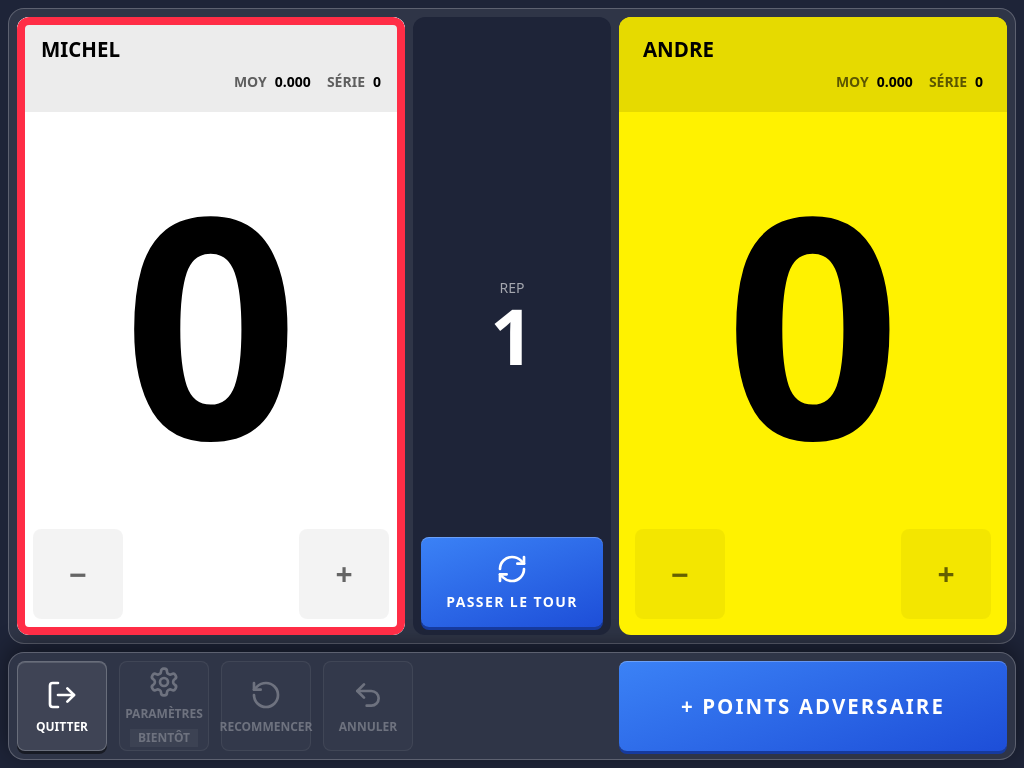
Test: GameView — saisie en popup et alternance › shows no numeric pad until the entry popup is opened
Press the mouse on the button with test id "add-points-button" at (813, 706), box [619,661,1007,751]
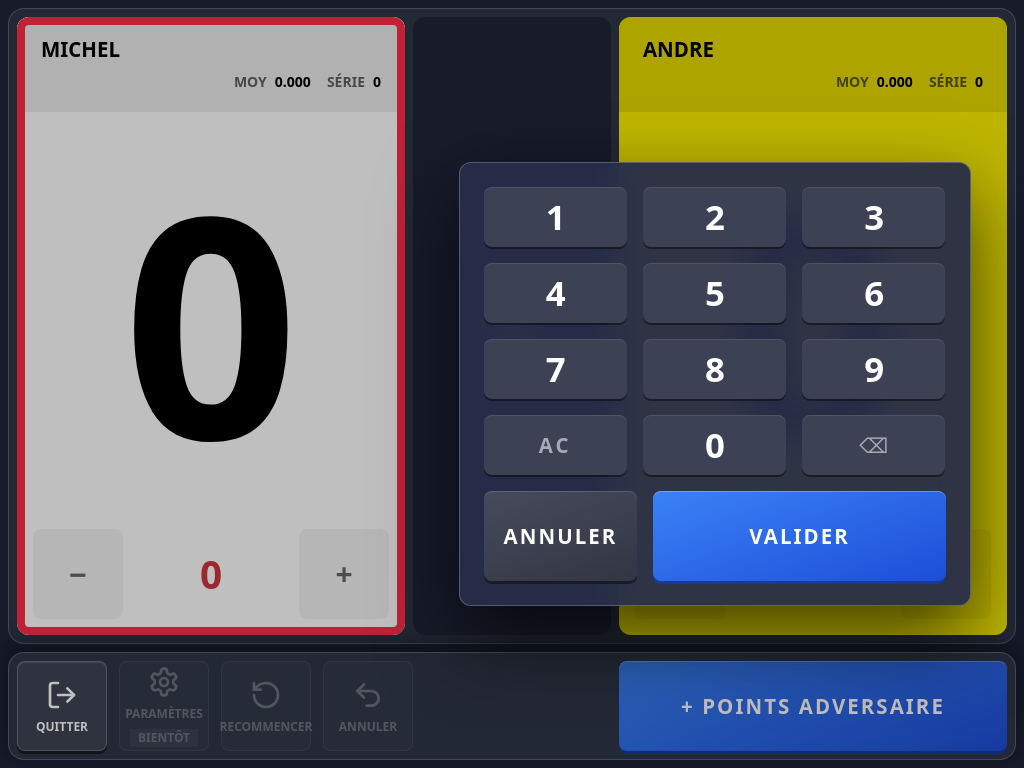
Now the button with test id "digit-5" is shown, box [643,263,786,323]
